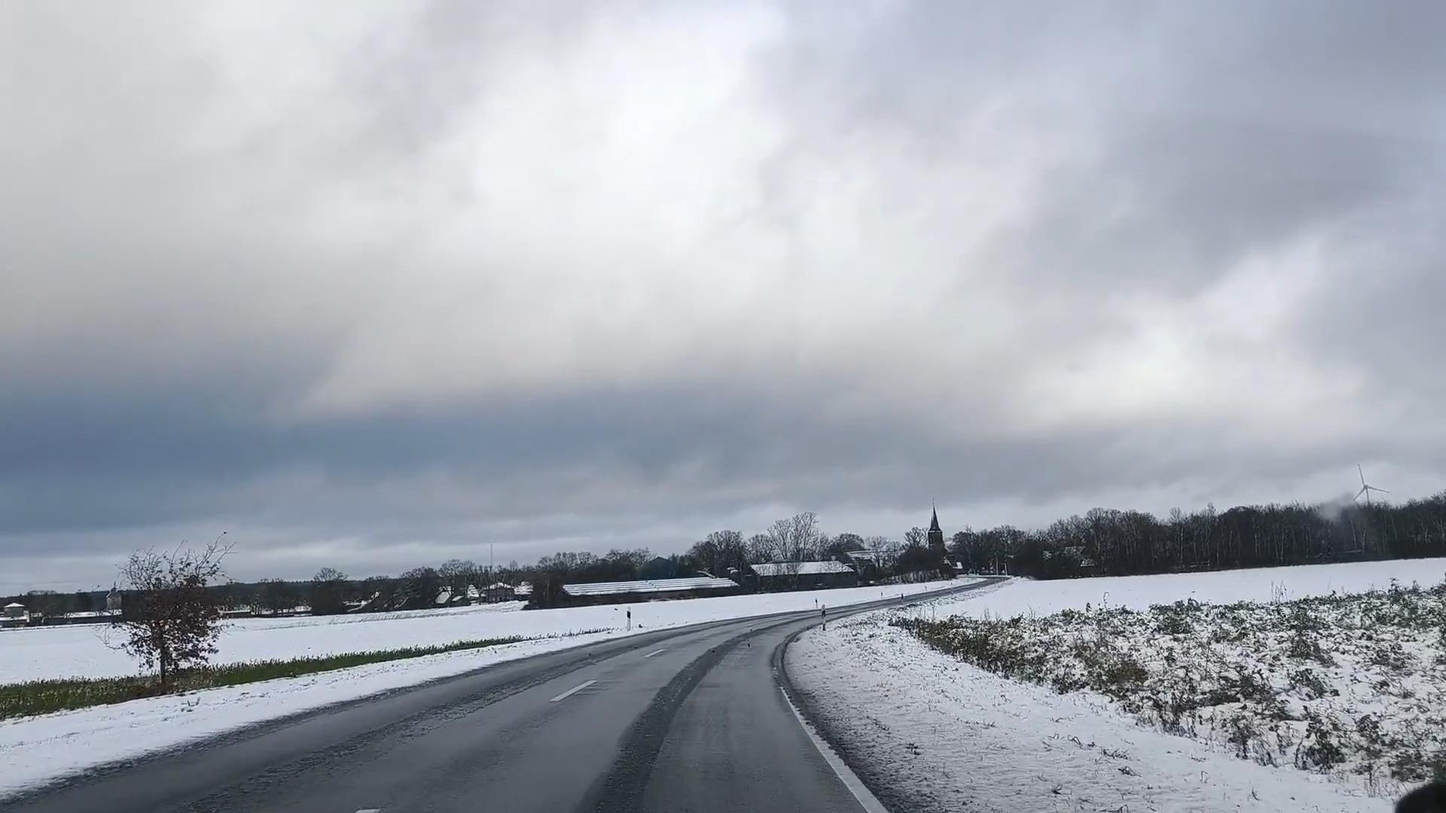Snow: (785, 558, 1446, 813), (0, 601, 797, 798)
ice: (0, 578, 1014, 813)
